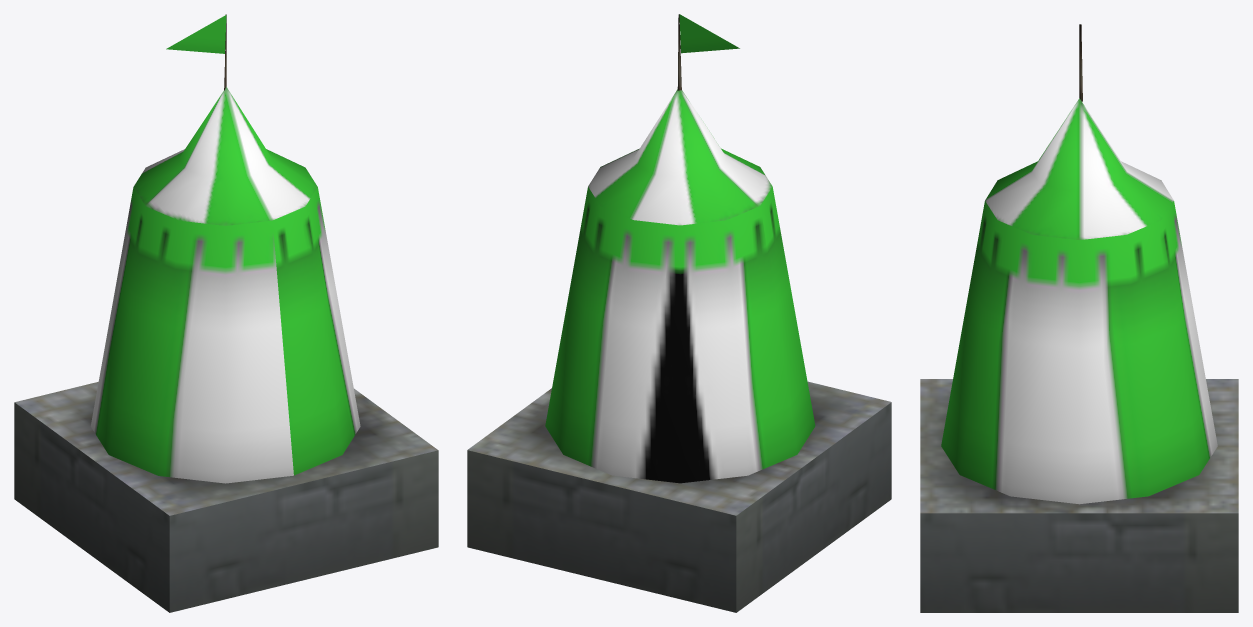
Rendered from med_tile_tent_green.obj.
The picture shows the model from 3 angles, left to right: view 1: azimuth 30°, elevation 25°; view 2: azimuth 150°, elevation 25°; view 3: azimuth 270°, elevation 25°; orthographic projection. The views are drawn at different scales.
Visible parts, largest first — view 1: tile_tent_green; view 2: tile_tent_green; view 3: tile_tent_green.
Part boxes in pixels (x1,y1,x2,y2): tile_tent_green: [14, 14, 438, 612]; tile_tent_green: [467, 14, 891, 612]; tile_tent_green: [920, 24, 1238, 612].
Size of the model in its own units: 1 by 1.81 by 1.
Materials: 1 (1 with a texture image).
